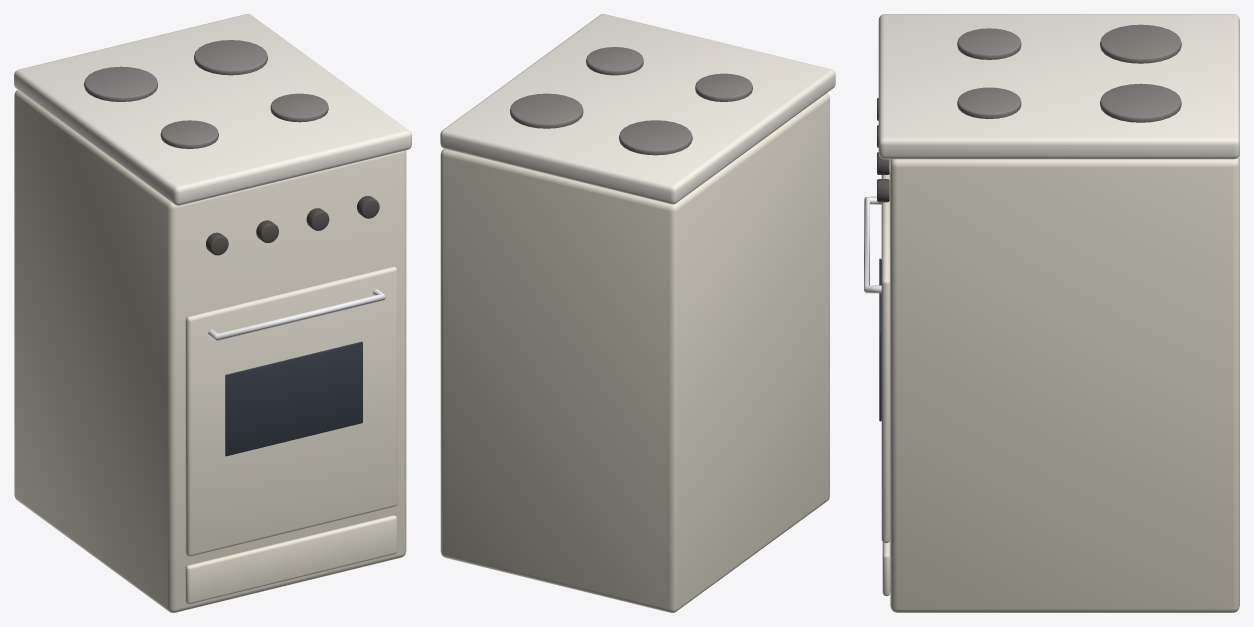
Rendered from electric_stove.glb.
The picture shows the model from 3 angles, left to right: view 1: azimuth 30°, elevation 25°; view 2: azimuth 150°, elevation 25°; view 3: azimuth 270°, elevation 25°; orthographic projection. The views are drawn at different scales.
Parts seen in each view (by area): view 1: electric_stove_body, electric_stove_door, electric_stove_hob, electric_stove_window, electric_stove_drawer, electric_stove_burner_2, electric_stove_burner, electric_stove_handle, electric_stove_burner_1, electric_stove_burner_3; view 2: electric_stove_body, electric_stove_hob, electric_stove_burner_2, electric_stove_burner, electric_stove_burner_1, electric_stove_burner_3; view 3: electric_stove_body, electric_stove_hob, electric_stove_door, electric_stove_burner, electric_stove_burner_2, electric_stove_burner_1, electric_stove_burner_3, electric_stove_handle.
Boxes of the visible parts, left/top/right/bottom form: electric_stove_body: left=14, top=90, right=406, bottom=612; electric_stove_door: left=185, top=266, right=397, bottom=556; electric_stove_hob: left=14, top=14, right=411, bottom=205; electric_stove_window: left=225, top=341, right=362, bottom=456; electric_stove_drawer: left=185, top=515, right=396, bottom=604; electric_stove_burner_2: left=194, top=40, right=267, bottom=75; electric_stove_burner: left=84, top=66, right=157, bottom=101; electric_stove_handle: left=208, top=289, right=385, bottom=340; electric_stove_burner_1: left=160, top=120, right=218, bottom=148; electric_stove_burner_3: left=270, top=93, right=328, bottom=122; electric_stove_body: left=440, top=93, right=829, bottom=612; electric_stove_hob: left=440, top=14, right=835, bottom=204; electric_stove_burner_2: left=510, top=93, right=583, bottom=128; electric_stove_burner: left=619, top=120, right=692, bottom=155; electric_stove_burner_1: left=695, top=73, right=752, bottom=101; electric_stove_burner_3: left=586, top=47, right=643, bottom=75; electric_stove_body: left=890, top=154, right=1239, bottom=612; electric_stove_hob: left=878, top=14, right=1239, bottom=159; electric_stove_door: left=881, top=171, right=890, bottom=543; electric_stove_burner: left=1100, top=24, right=1181, bottom=63; electric_stove_burner_2: left=1100, top=83, right=1181, bottom=122; electric_stove_burner_1: left=957, top=28, right=1021, bottom=59; electric_stove_burner_3: left=957, top=87, right=1021, bottom=118; electric_stove_handle: left=864, top=196, right=881, bottom=293.
Bounding box in the file's own units: 0.52 × 0.91 × 0.6449.
